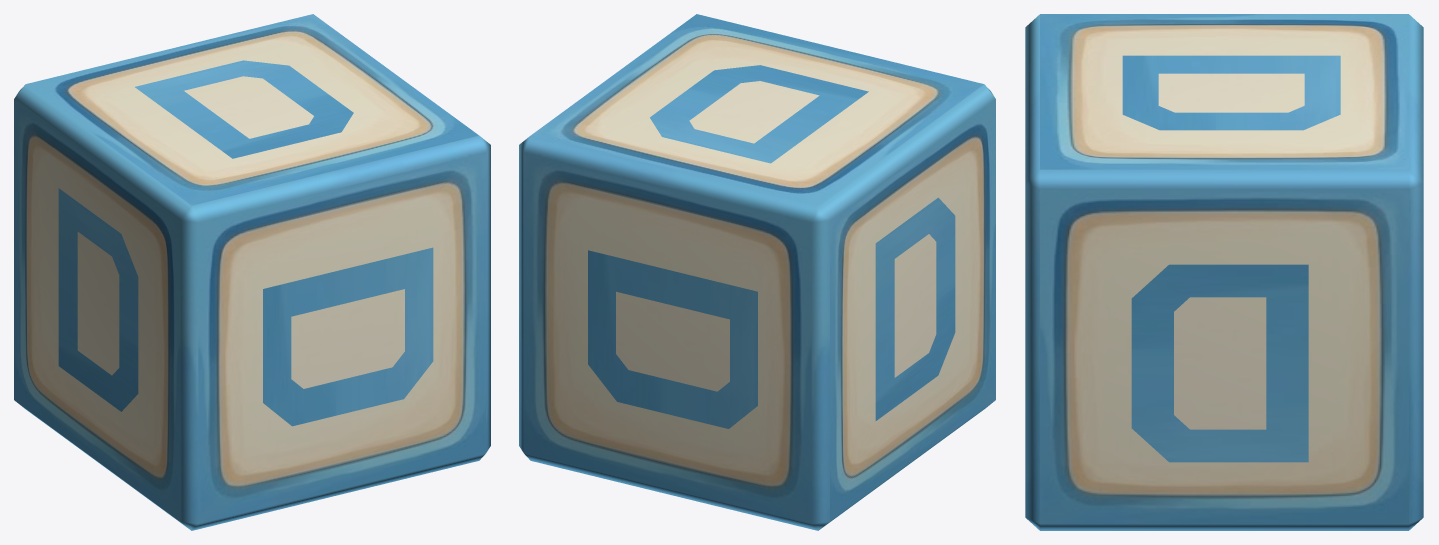
The model's file is CubeD.glb.
3 views of the same model, side by side, from view 1: azimuth 30°, elevation 25°; view 2: azimuth 150°, elevation 25°; view 3: azimuth 270°, elevation 25° (orthographic). The views are drawn at different scales.
Parts seen in each view (by area): view 1: CubeD; view 2: CubeD; view 3: CubeD.
Boxes of the visible parts, <box> form: CubeD: <box>14,14,490,530</box>; CubeD: <box>519,14,995,530</box>; CubeD: <box>1025,14,1423,530</box>.
Size of what is drawn, in the model's own units: 0.5122 by 0.5122 by 0.5122.
1 material, 1 textured.
